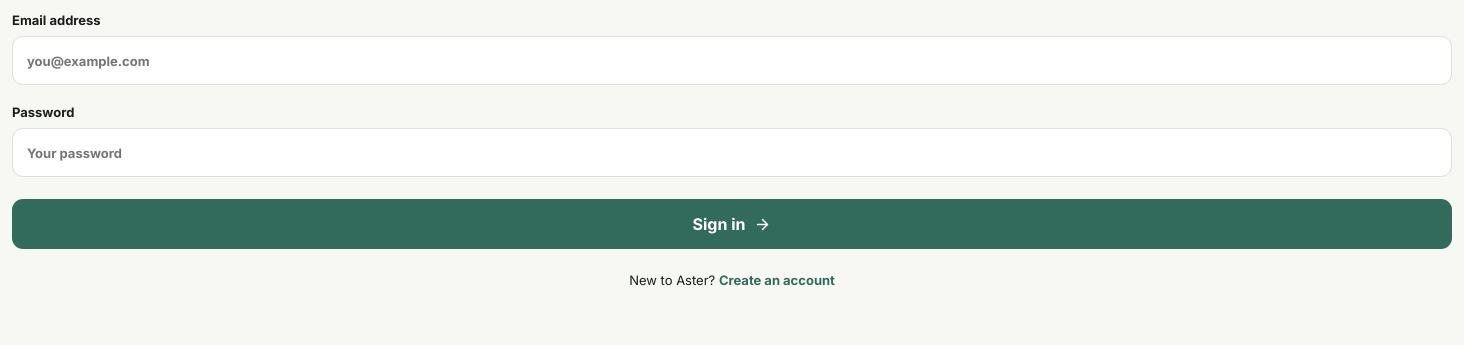
Test: AuthForm › validates login fields
The image size is (1464, 345).
Click the button "Sign in" at (732, 224), box [12,199,1452,249]
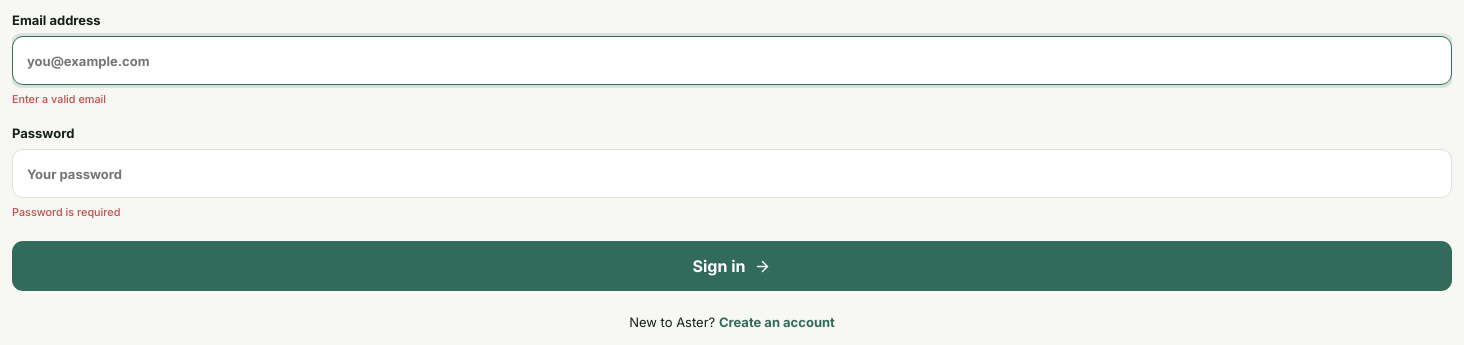
Expected: the text "Enter a valid email" is shown, [12,93,106,106]
Expected: the text "Password is required" is shown, [12,206,120,219]
